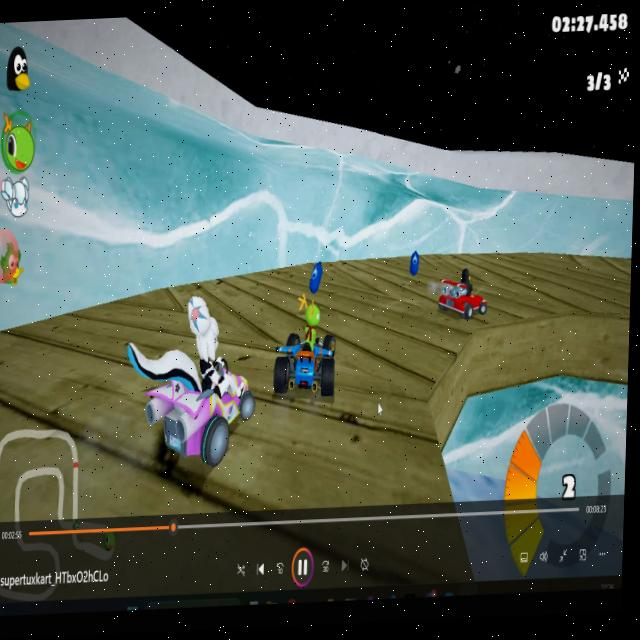enemy_kart: (120, 295, 263, 477), (437, 268, 491, 335)
nitro: (302, 256, 327, 298), (404, 241, 422, 285)
player_kart: (268, 299, 342, 417)
track: (0, 441, 442, 521), (0, 335, 123, 462), (498, 249, 632, 326), (341, 301, 435, 407), (260, 401, 432, 447), (330, 264, 401, 300), (236, 272, 302, 297), (74, 307, 127, 336), (433, 253, 499, 271), (166, 283, 236, 298), (435, 337, 464, 365), (403, 282, 436, 298)
